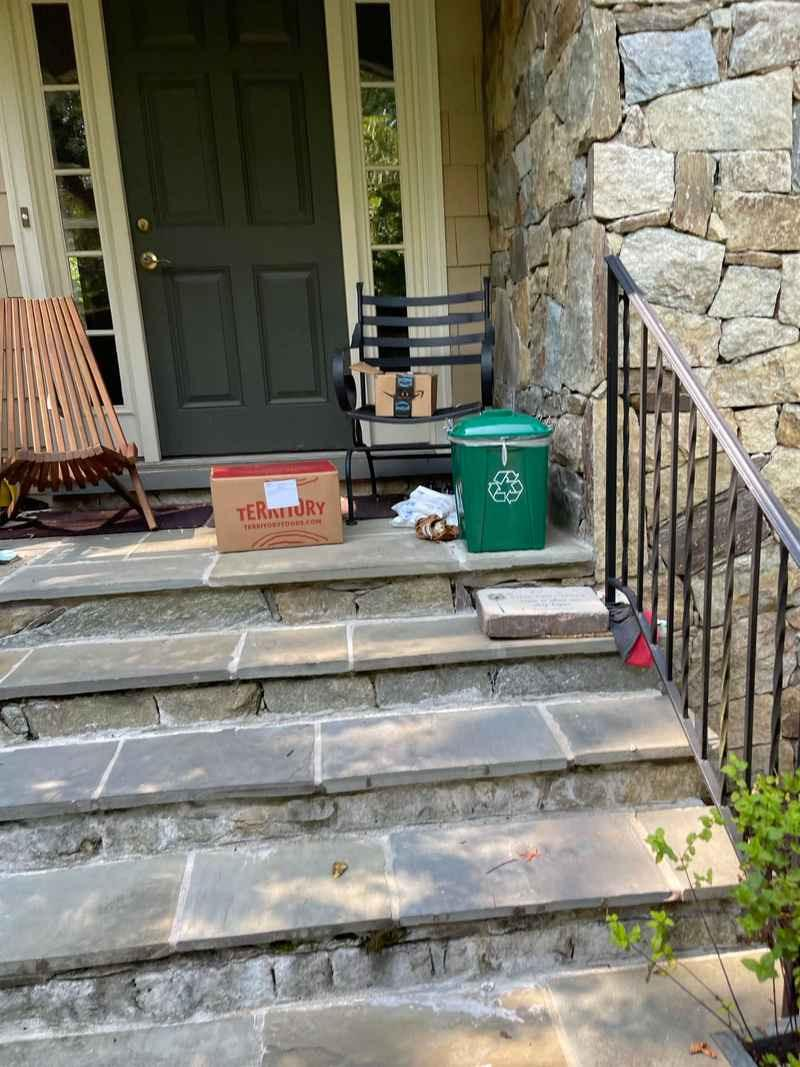package: (207, 458, 345, 554)
